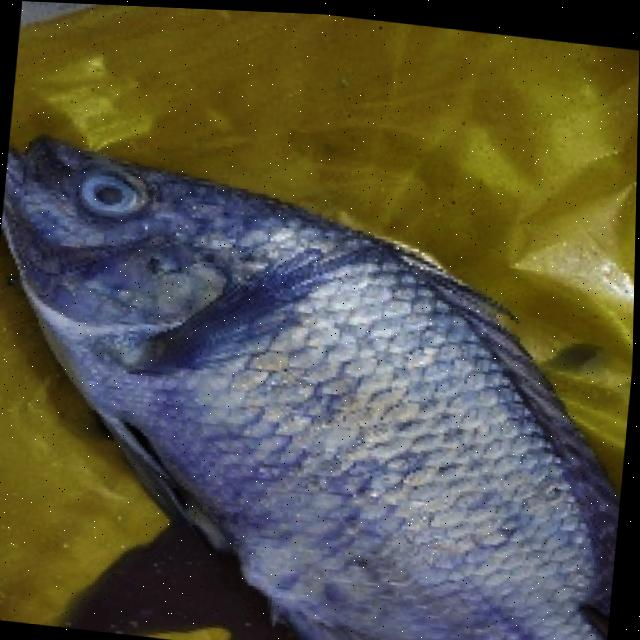Non-Fresh: (0, 103, 562, 572), (67, 159, 156, 234)
